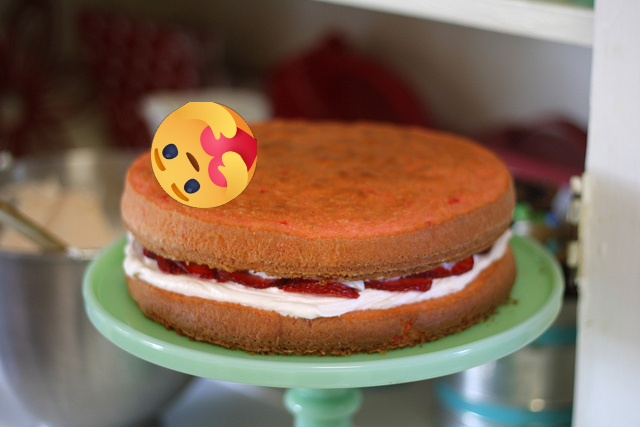care: (151, 102, 257, 208)
